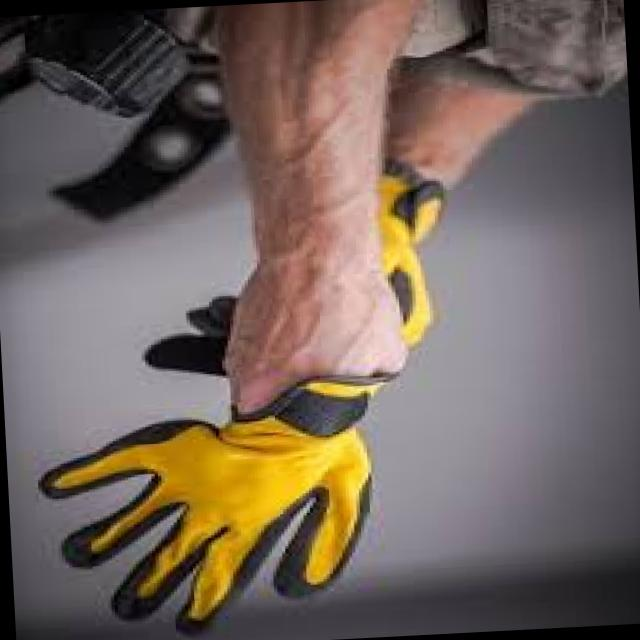gloved: (39, 368, 416, 636)
not-gloved: (220, 242, 422, 378)
